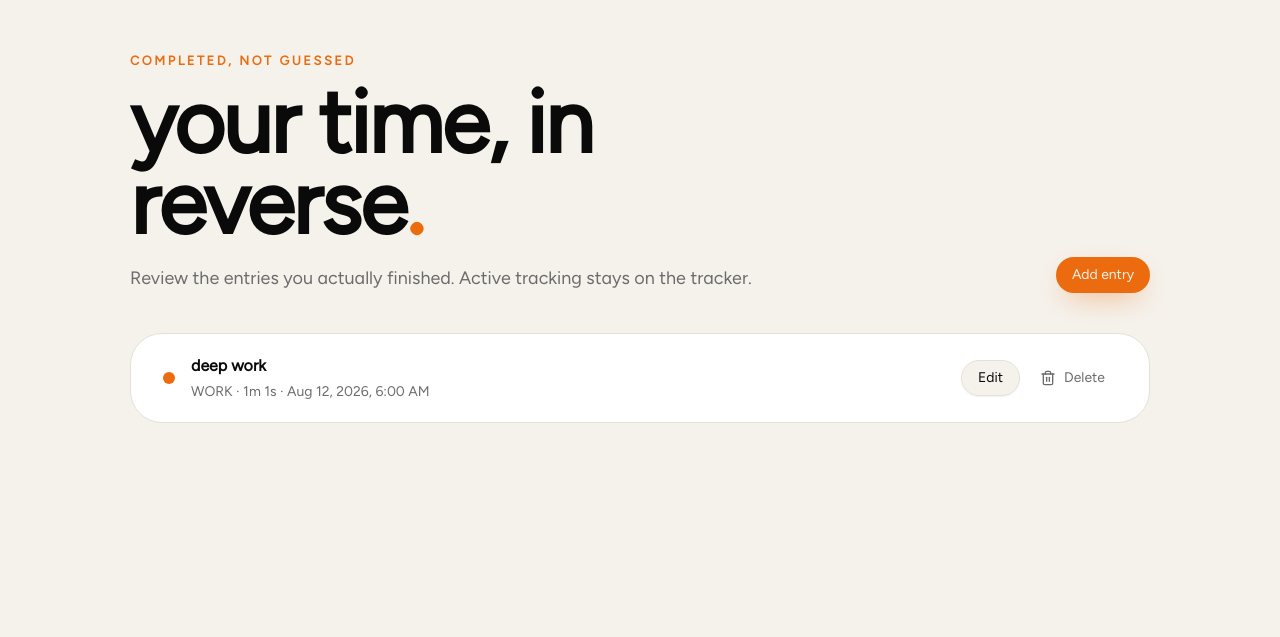
HistoryPage › remounts the form when switching from a new entry to an edit
Expected: the text "deep work" is shown, left=191, top=356, right=266, bottom=375
Click the button "Add entry".
click(1103, 275)  # box left=1056, top=257, right=1150, bottom=293
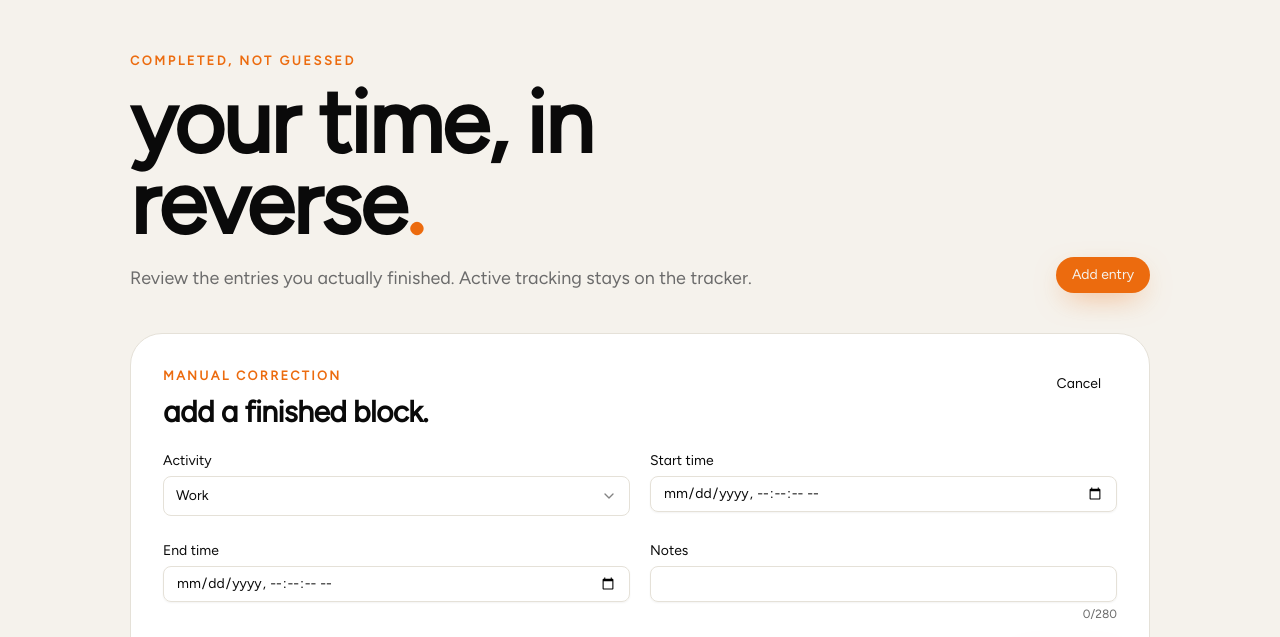
Type "should not leak" into the field labelled "Notes".
click(884, 584); type("should not leak")  # box left=650, top=566, right=1117, bottom=602
(page scrolled)
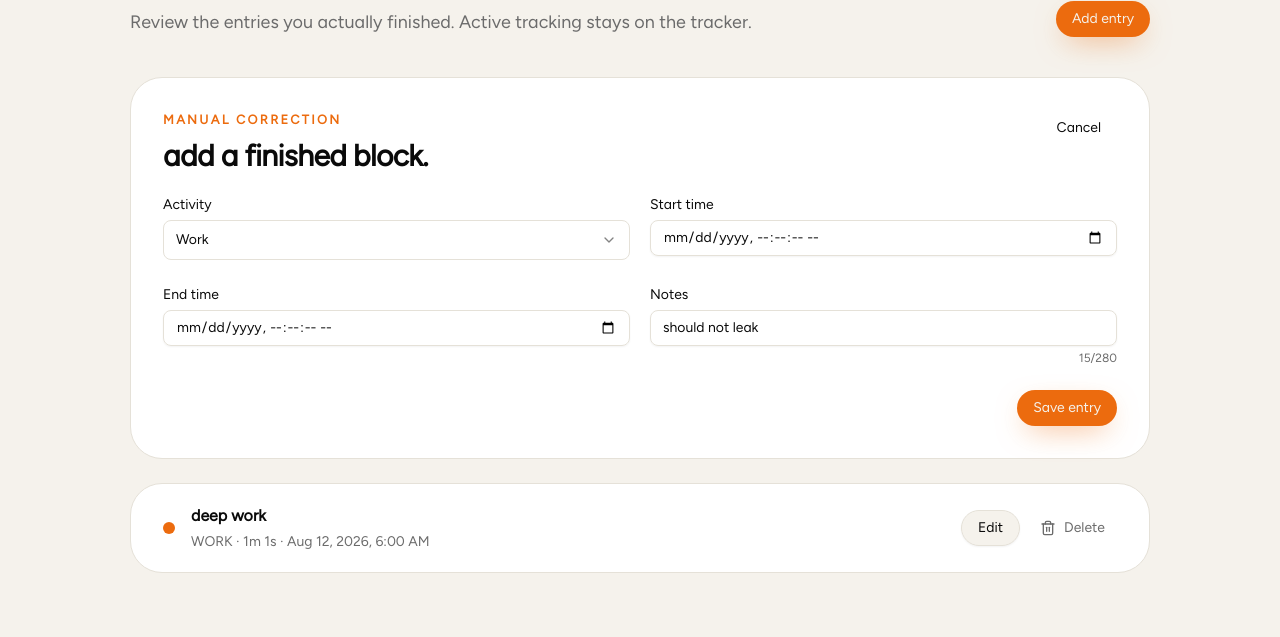
Click the button with aria-label "edit deep work".
click(990, 528)  # box left=961, top=510, right=1020, bottom=546
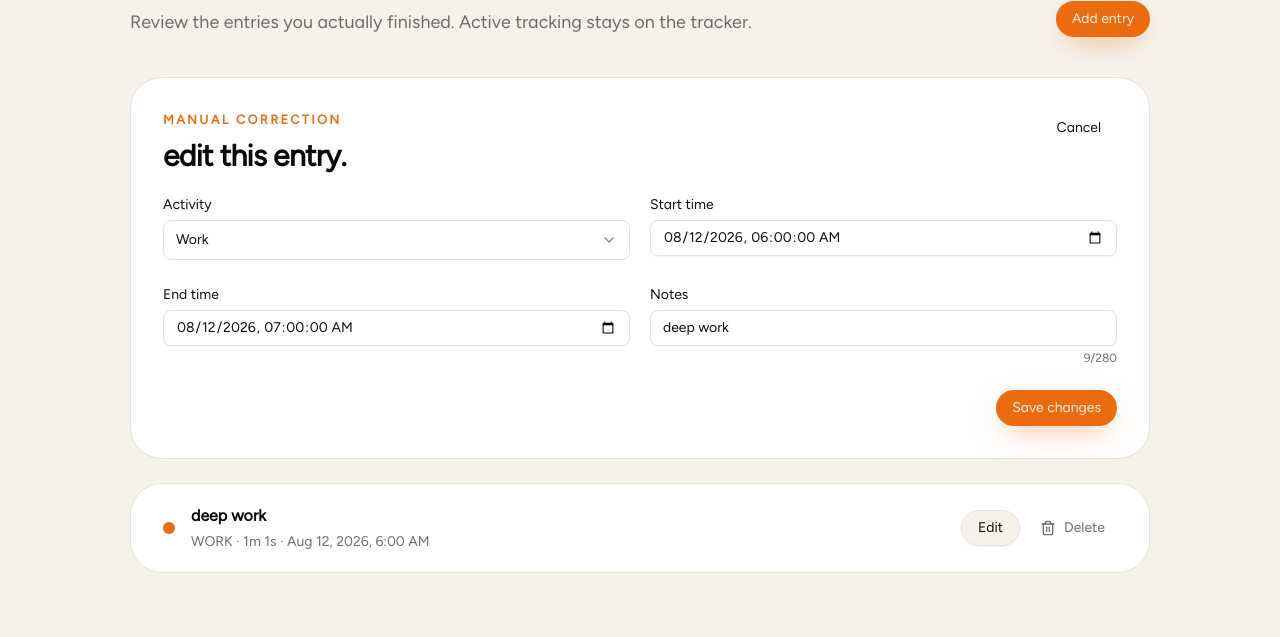
Expected: the field labelled "Notes" holds "deep work", left=650, top=310, right=1117, bottom=346
